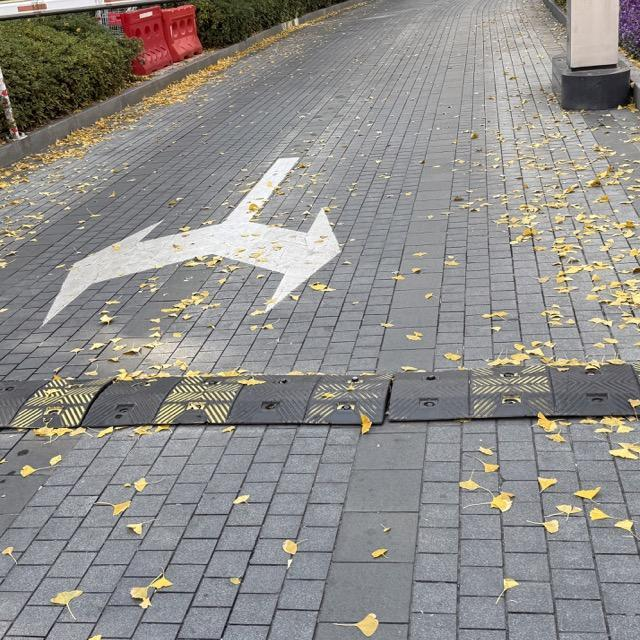curb: (0, 0, 365, 168), (543, 0, 565, 24)
